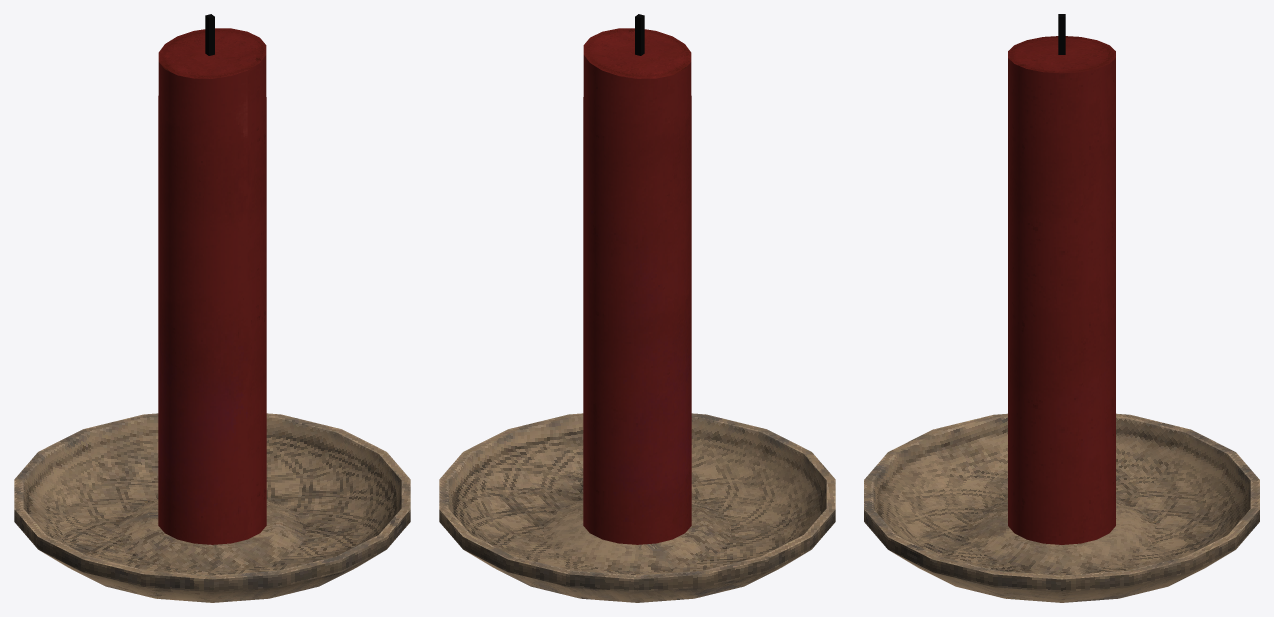
File: candle.glb
3 views of the same model, side by side, from view 1: azimuth 30°, elevation 25°; view 2: azimuth 150°, elevation 25°; view 3: azimuth 270°, elevation 25° (orthographic).
Visible parts, largest first — view 1: candle_red, plate; view 2: candle_red, plate; view 3: candle_red, plate.
Part boxes in pixels (x1,y1,x2,y2): candle_red: (158, 14, 266, 544); plate: (14, 413, 410, 602); candle_red: (583, 14, 691, 544); plate: (439, 413, 835, 602); candle_red: (1008, 14, 1115, 544); plate: (864, 413, 1259, 602).
Size of the model in its own units: 0.12 by 0.1711 by 0.1182.
Materials: 3 (3 with a texture image).
